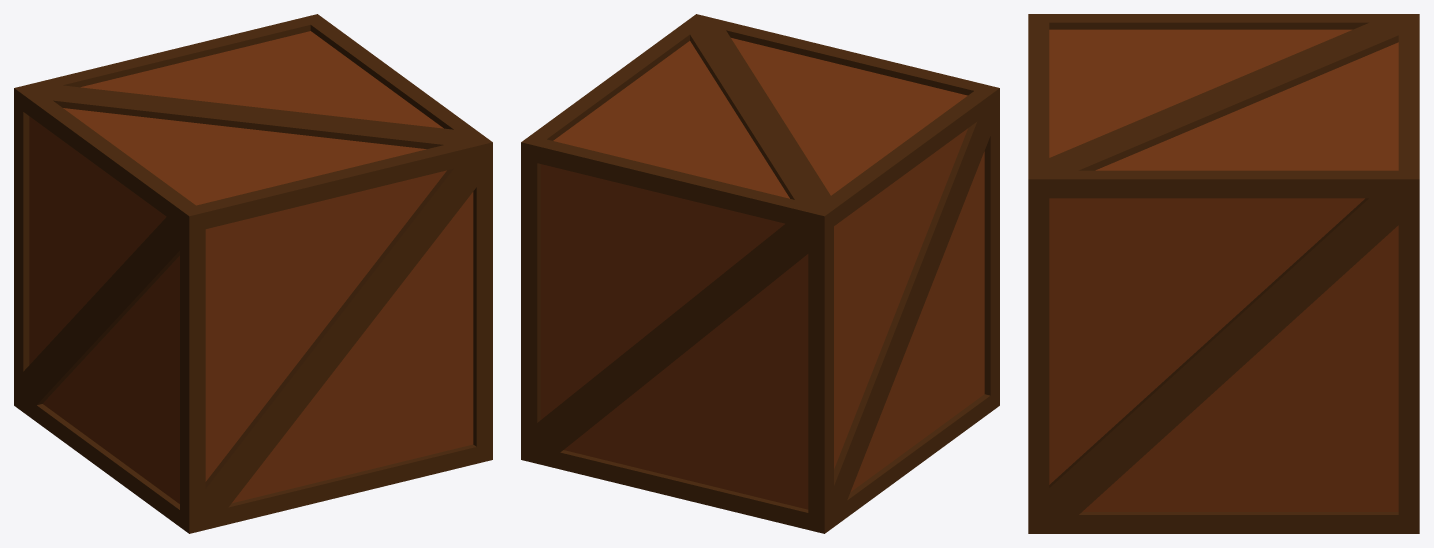
Rendered from package-1.glb.
3 views of the same model, side by side, from view 1: azimuth 30°, elevation 25°; view 2: azimuth 150°, elevation 25°; view 3: azimuth 270°, elevation 25° (orthographic). The views are drawn at different scales.
Visible parts, largest first — view 1: package-1; view 2: package-1; view 3: package-1.
Part boxes in pixels (x1,y1,x2,y2): package-1: (14, 14, 492, 533); package-1: (521, 14, 999, 533); package-1: (1028, 14, 1419, 533).
Bounding box in the file's own units: 0.4 × 0.4 × 0.4.
